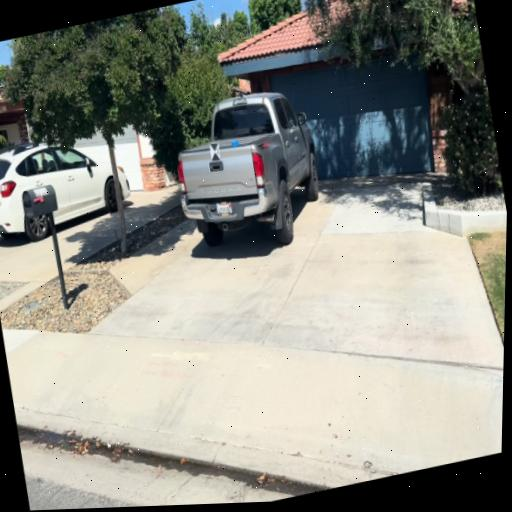target1: (209, 141, 220, 160)
